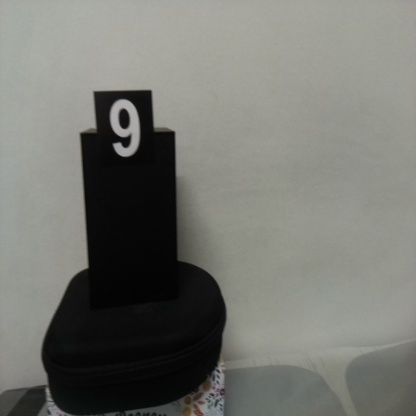id_9: (94, 91, 155, 174)
